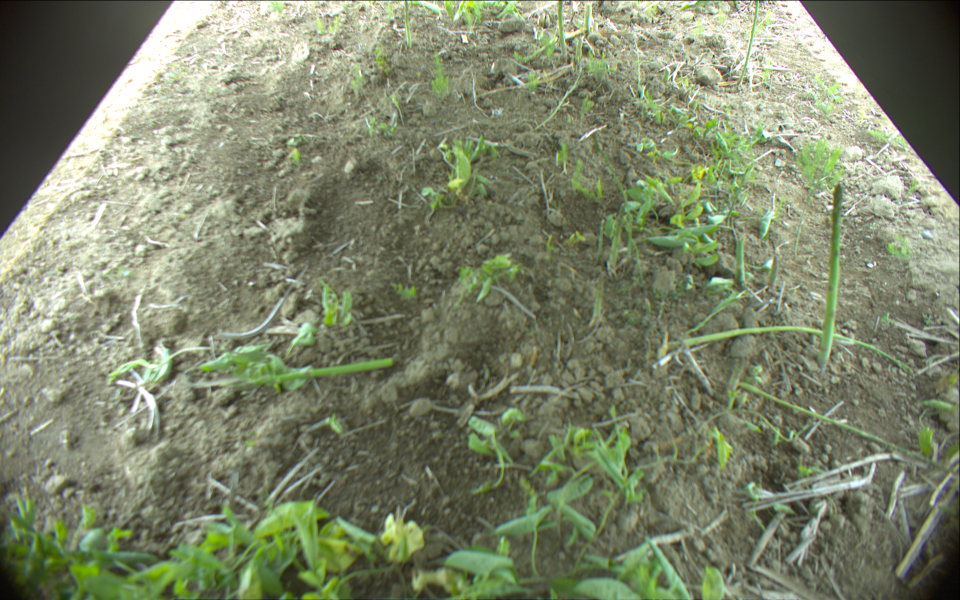aspa: (741, 384, 955, 475), (666, 324, 911, 373), (817, 181, 844, 374), (252, 358, 392, 383), (736, 1, 759, 87), (557, 1, 569, 56), (402, 1, 412, 47), (584, 1, 592, 36), (575, 35, 584, 60)
